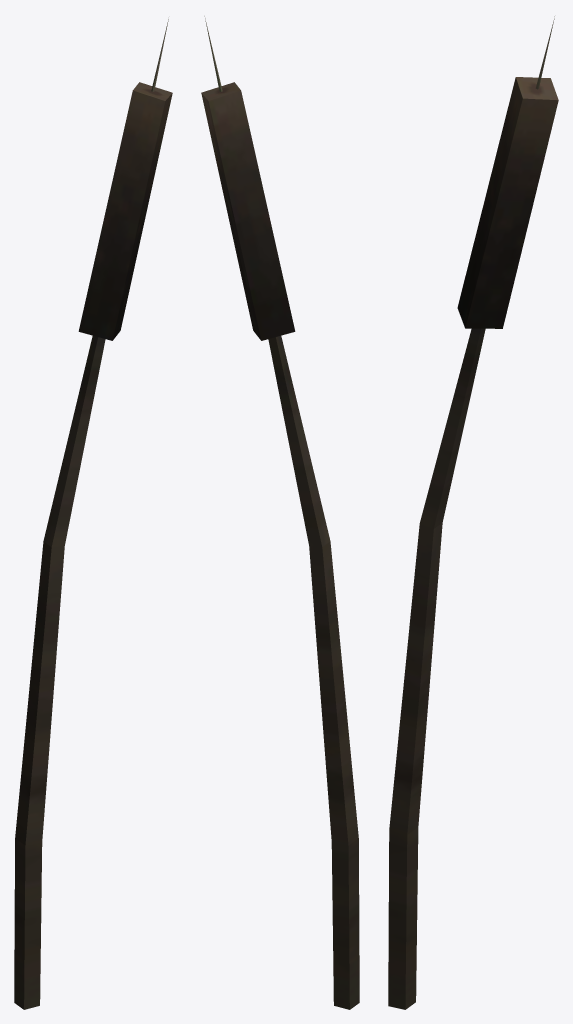
File: cattail_01.fbx
3 renders of one model, left to right at view 1: azimuth 30°, elevation 25°; view 2: azimuth 150°, elevation 25°; view 3: azimuth 330°, elevation 25°, orthographic. The views are drawn at different scales.
Visible parts, largest first — view 1: obj0.100; view 2: obj0.100; view 3: obj0.100.
Boxes of the visible parts, x1=… form: obj0.100: x1=14, y1=19, x2=172, y2=1009; obj0.100: x1=201, y1=16, x2=359, y2=1009; obj0.100: x1=388, y1=16, x2=558, y2=1009.
Bounding box in the file's own units: 0.5086 × 3.02 × 0.1535.
